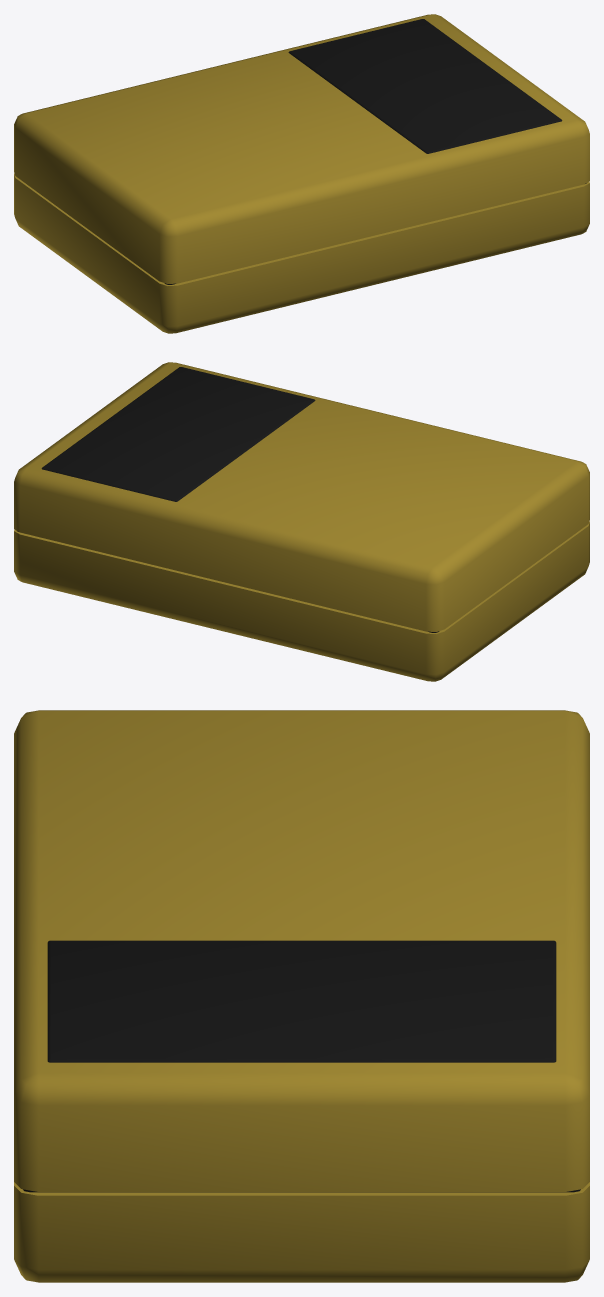
Rendered from receiver1.dae.
3 views of the same model, one above another, from view 1: azimuth 30°, elevation 25°; view 2: azimuth 150°, elevation 25°; view 3: azimuth 270°, elevation 25° (orthographic). The views are drawn at different scales.
Parts seen in each view (by area): view 1: Empfänger, Empfänger.1, Ausschnitt; view 2: Empfänger, Empfänger.1, Ausschnitt; view 3: Empfänger, Empfänger.1, Ausschnitt.
Part boxes in pixels (<box>): Empfänger: <box>14,14,589,333</box>; Empfänger.1: <box>288,19,562,153</box>; Ausschnitt: <box>14,173,589,285</box>; Empfänger: <box>14,362,589,681</box>; Empfänger.1: <box>41,367,315,501</box>; Ausschnitt: <box>14,521,589,633</box>; Empfänger: <box>14,710,589,1282</box>; Empfänger.1: <box>47,940,556,1062</box>; Ausschnitt: <box>14,1182,589,1195</box>.
Size of the model in its own units: 110 by 28.33 by 70.
